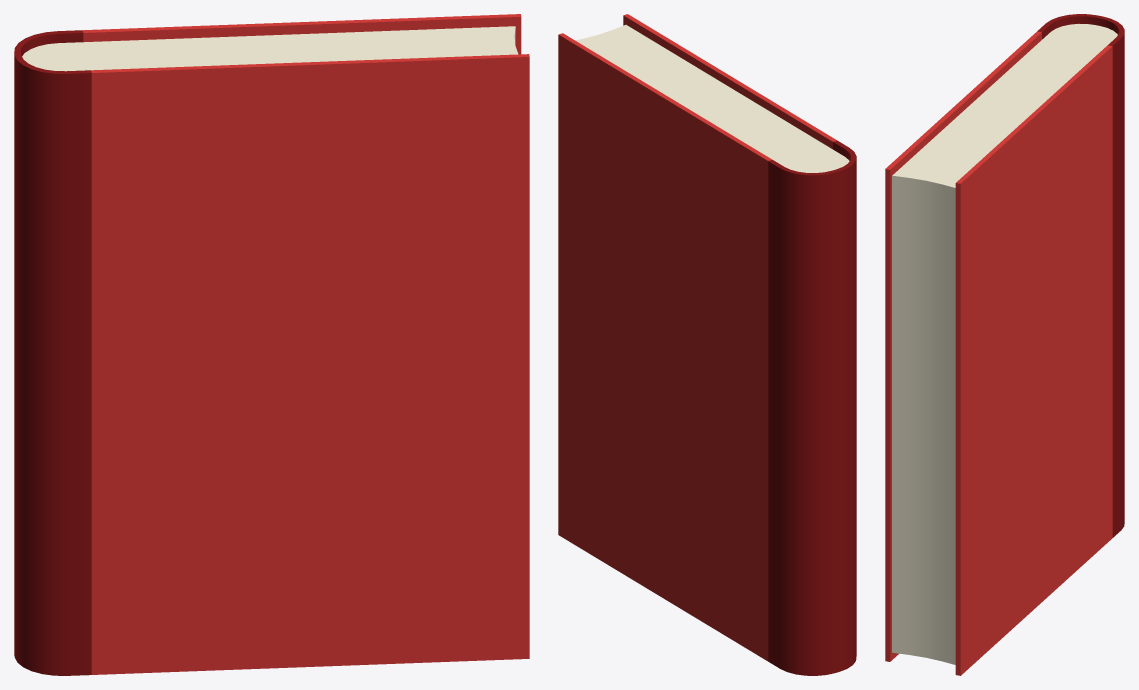
The model's file is closed_book.gltf.
3 renders of one model, left to right at view 1: azimuth 30°, elevation 25°; view 2: azimuth 150°, elevation 25°; view 3: azimuth 270°, elevation 25°, orthographic. The views are drawn at different scales.
Visible parts, largest first — view 1: Cube.944; view 2: Cube.944; view 3: Cube.944.
Part boxes in pixels (x1,y1,x2,y2): Cube.944: [14, 14, 529, 675]; Cube.944: [558, 14, 856, 675]; Cube.944: [885, 14, 1124, 675].
Bounding box in the file's own units: 1.55 × 2.1 × 0.9263.
1 material, 1 textured.
